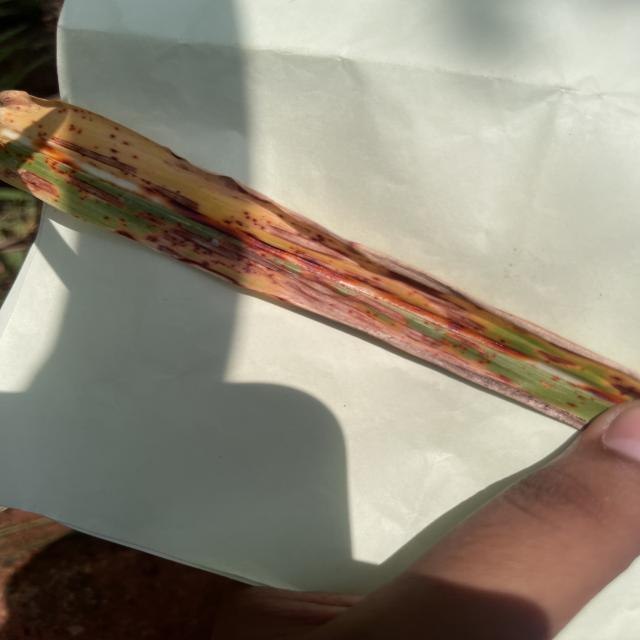millet_rust: (0, 85, 640, 432)
